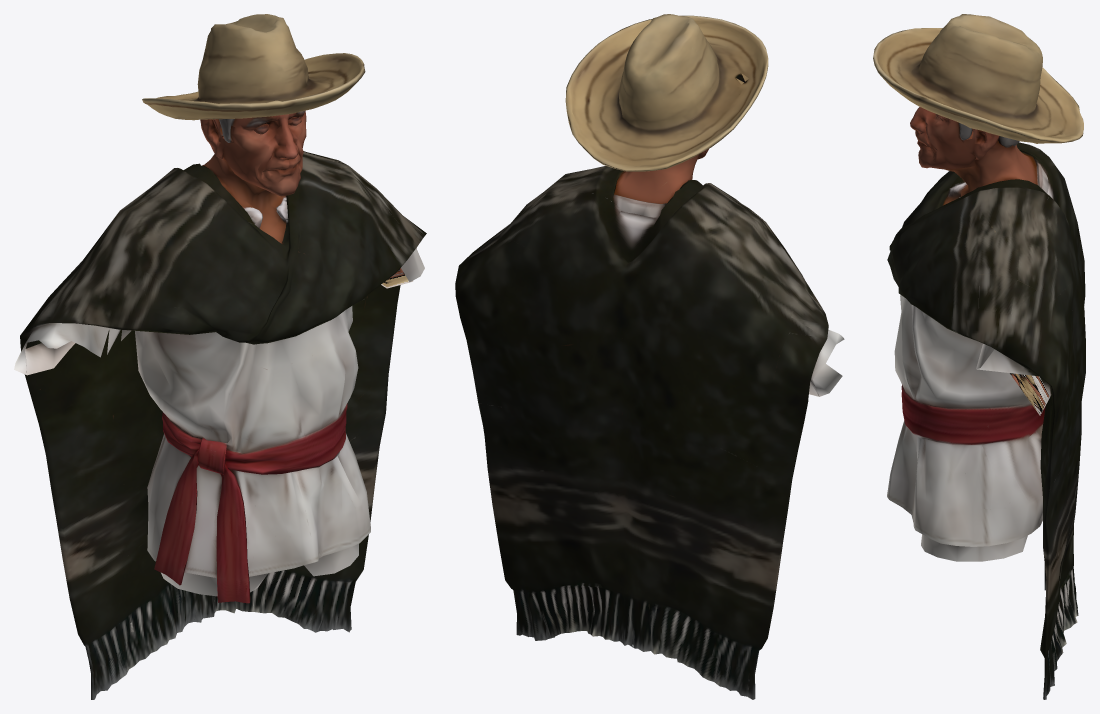
Rendered from cuerpo.obj.
The picture shows the model from 3 angles, left to right: view 1: azimuth 30°, elevation 25°; view 2: azimuth 150°, elevation 25°; view 3: azimuth 270°, elevation 25°; orthographic projection. The views are drawn at different scales.
Visible parts, largest first — view 1: cuerpo; view 2: cuerpo; view 3: cuerpo.
Boxes of the visible parts, x1,y1,x2,y2 form: cuerpo: (14,14,426,699); cuerpo: (455,14,844,699); cuerpo: (873,14,1085,699).
Bounding box in the file's own units: 0.4351 × 0.6841 × 0.2109.
Materials: 1 (1 with a texture image).
